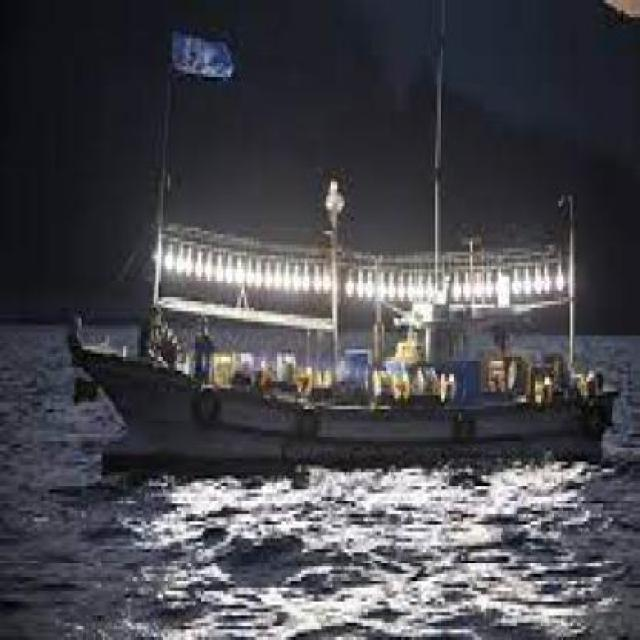fish-b: (63, 172, 625, 473)
